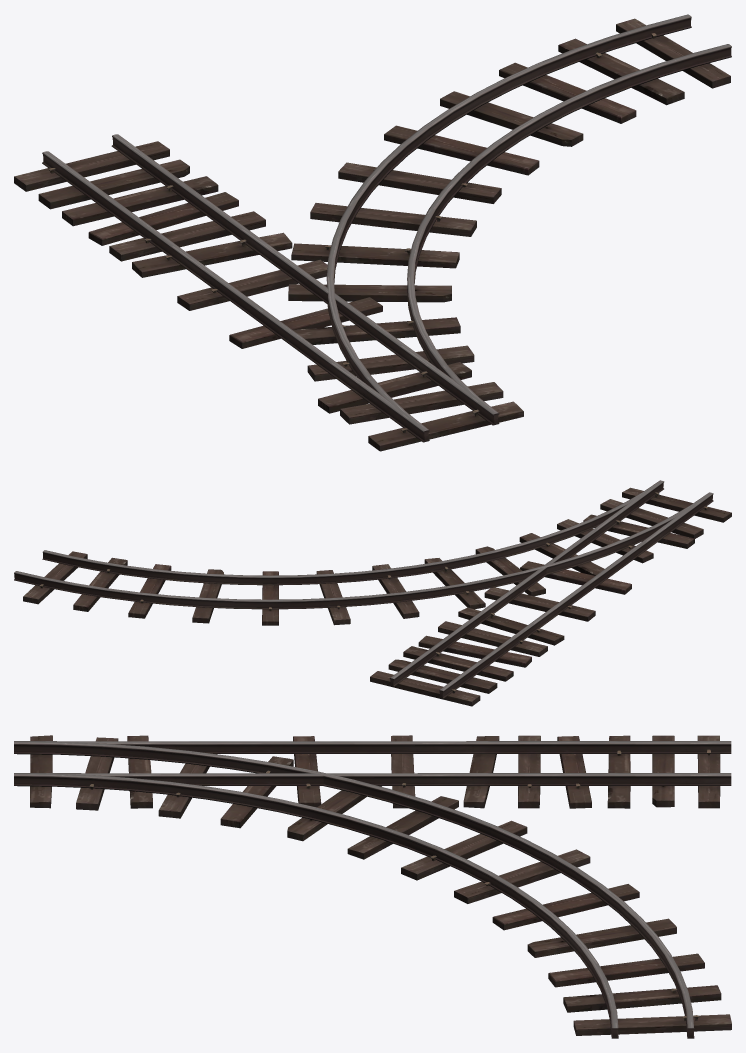
The picture shows the model from 3 angles, top to bottom: view 1: azimuth 30°, elevation 25°; view 2: azimuth 150°, elevation 25°; view 3: azimuth 270°, elevation 25°; orthographic projection. The views are drawn at different scales.
Visible parts, largest first — view 1: body0_model0_lod0_mesh0; view 2: body0_model0_lod0_mesh0; view 3: body0_model0_lod0_mesh0.
Part boxes in pixels (box(x1,y1,x2,y2)): body0_model0_lod0_mesh0: box(14, 14, 731, 451); body0_model0_lod0_mesh0: box(14, 480, 731, 706); body0_model0_lod0_mesh0: box(14, 735, 731, 1038).
Bounding box in the file's own units: 256 × 6.7 × 256.
Materials: 1 (1 with a texture image).
